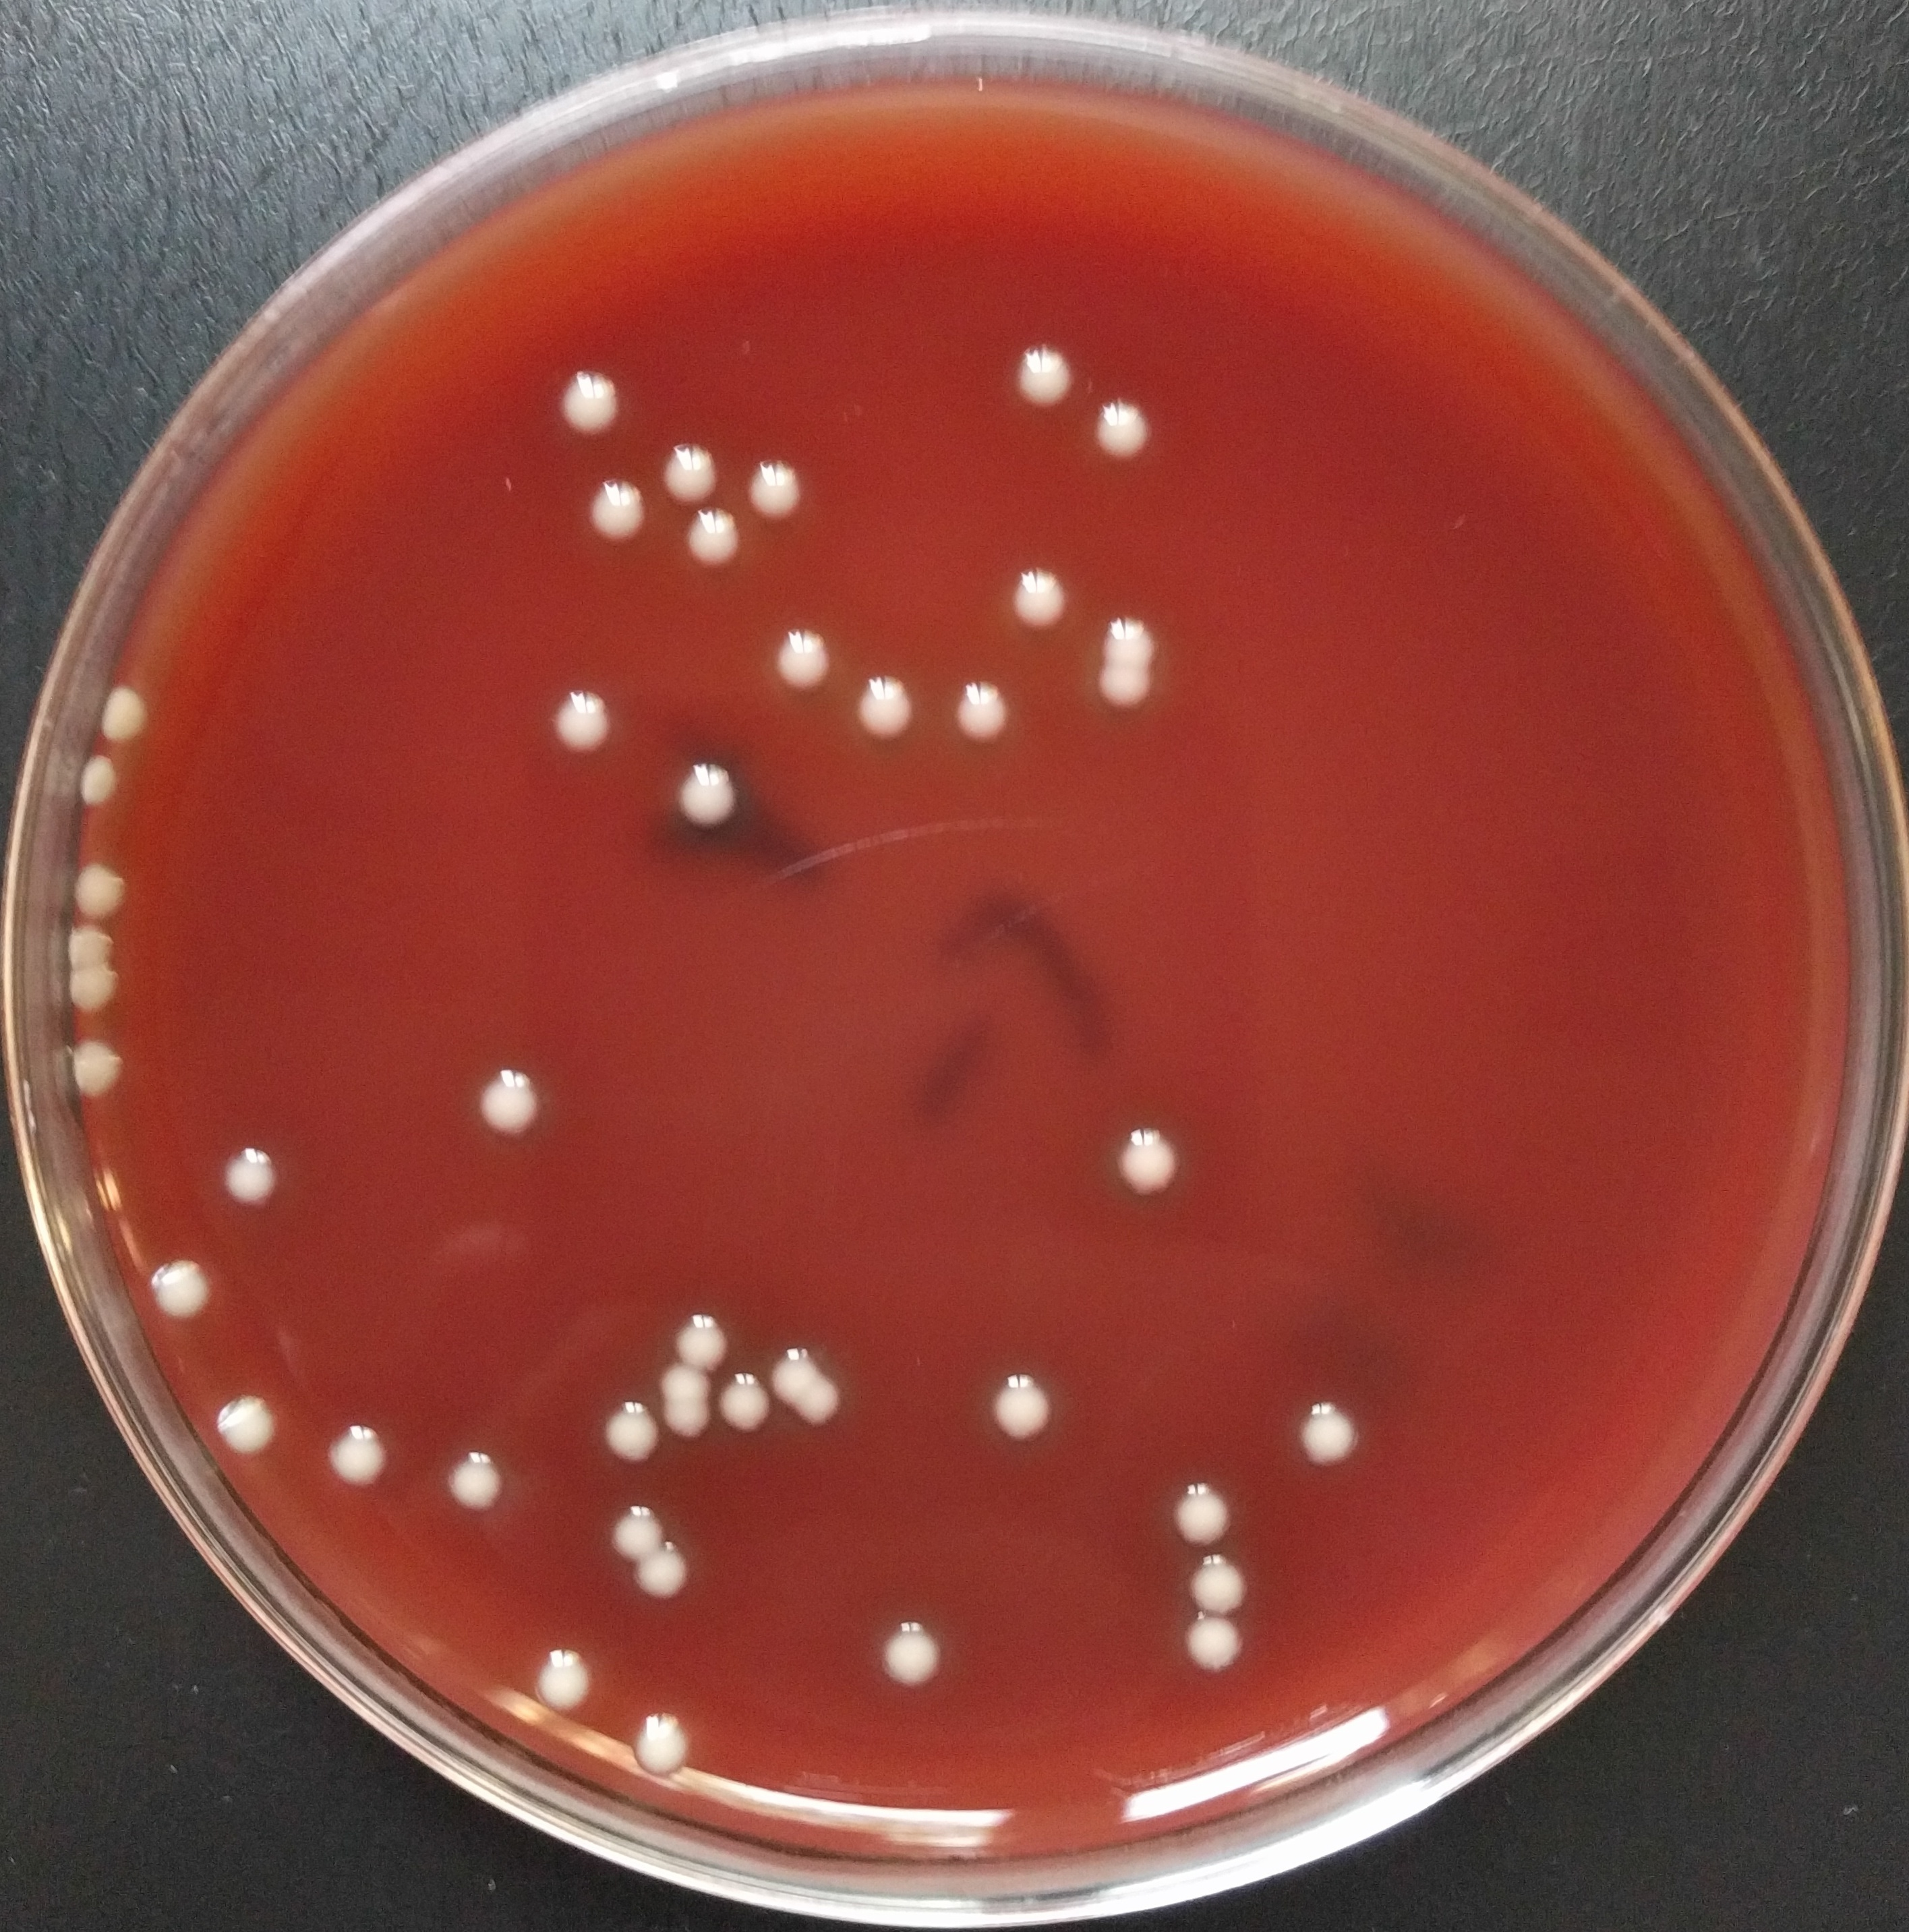sp03: (1110, 1124, 1189, 1206), (323, 1413, 390, 1500), (876, 1614, 953, 1689), (142, 1254, 220, 1327), (1168, 1479, 1243, 1554), (853, 670, 921, 750), (472, 1065, 545, 1138), (675, 757, 741, 837), (215, 1388, 281, 1465), (559, 364, 626, 439), (954, 675, 1021, 750), (222, 1138, 285, 1215), (444, 1444, 510, 1516), (1089, 397, 1156, 467), (1301, 1399, 1367, 1469), (1180, 1614, 1255, 1675), (584, 477, 650, 546), (989, 1374, 1056, 1442), (1014, 339, 1075, 413), (776, 624, 837, 698), (537, 1644, 598, 1717), (66, 1032, 128, 1103), (635, 1708, 691, 1783), (552, 684, 614, 750), (685, 505, 743, 575), (718, 1364, 773, 1437), (66, 858, 131, 920), (1014, 563, 1072, 629), (605, 1502, 670, 1560), (1184, 1554, 1250, 1610), (746, 458, 804, 521), (631, 1546, 691, 1605), (1091, 661, 1156, 715), (98, 682, 150, 748), (661, 442, 717, 504), (605, 1404, 661, 1465), (675, 1306, 729, 1369), (1096, 614, 1159, 666), (58, 970, 124, 1019), (72, 747, 119, 804), (767, 1345, 815, 1400), (795, 1378, 846, 1428), (659, 1393, 712, 1442), (656, 1359, 712, 1404), (61, 927, 119, 970)
